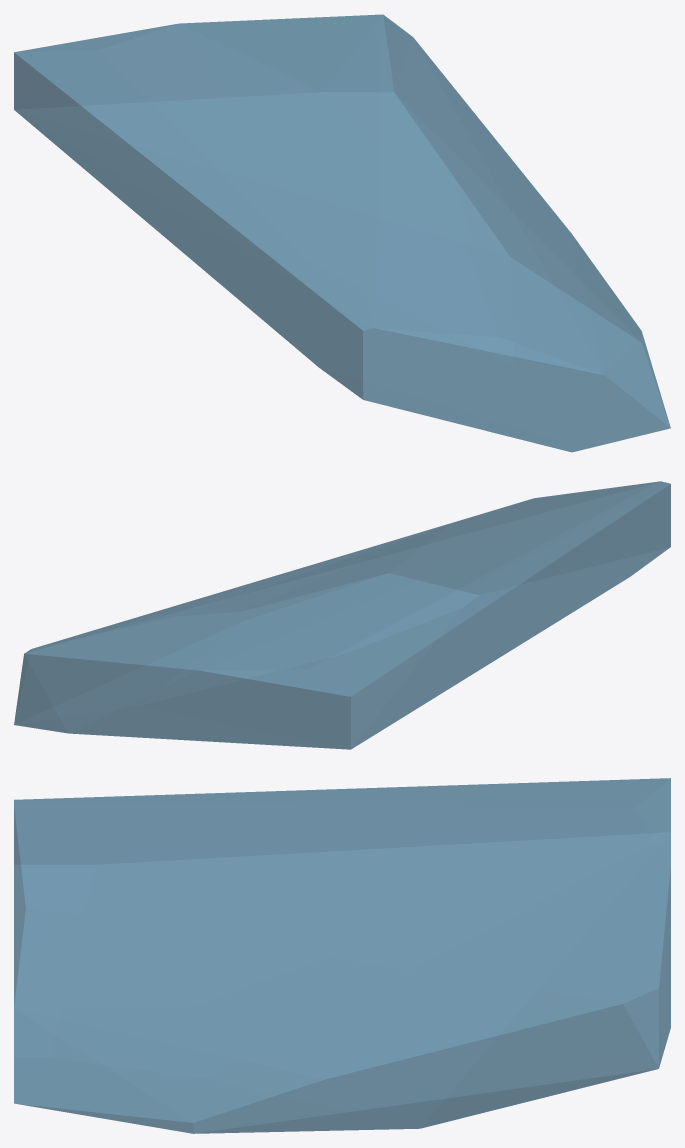
3 renders of one model, top to bottom at view 1: azimuth 30°, elevation 25°; view 2: azimuth 150°, elevation 25°; view 3: azimuth 270°, elevation 25°, orthographic. The views are drawn at different scales.
Parts seen in each view (by area): view 1: Shape_IndexedFaceSet.029_Shape_IndexedFaceSet.6292; view 2: Shape_IndexedFaceSet.029_Shape_IndexedFaceSet.6292; view 3: Shape_IndexedFaceSet.029_Shape_IndexedFaceSet.6292.
Part boxes in pixels (box(x1,y1,x2,y2)): Shape_IndexedFaceSet.029_Shape_IndexedFaceSet.6292: box(14, 14, 670, 452); Shape_IndexedFaceSet.029_Shape_IndexedFaceSet.6292: box(14, 481, 670, 749); Shape_IndexedFaceSet.029_Shape_IndexedFaceSet.6292: box(14, 778, 670, 1133).
Size of the model in its own units: 0.0808 by 0.0404 by 0.1307.
